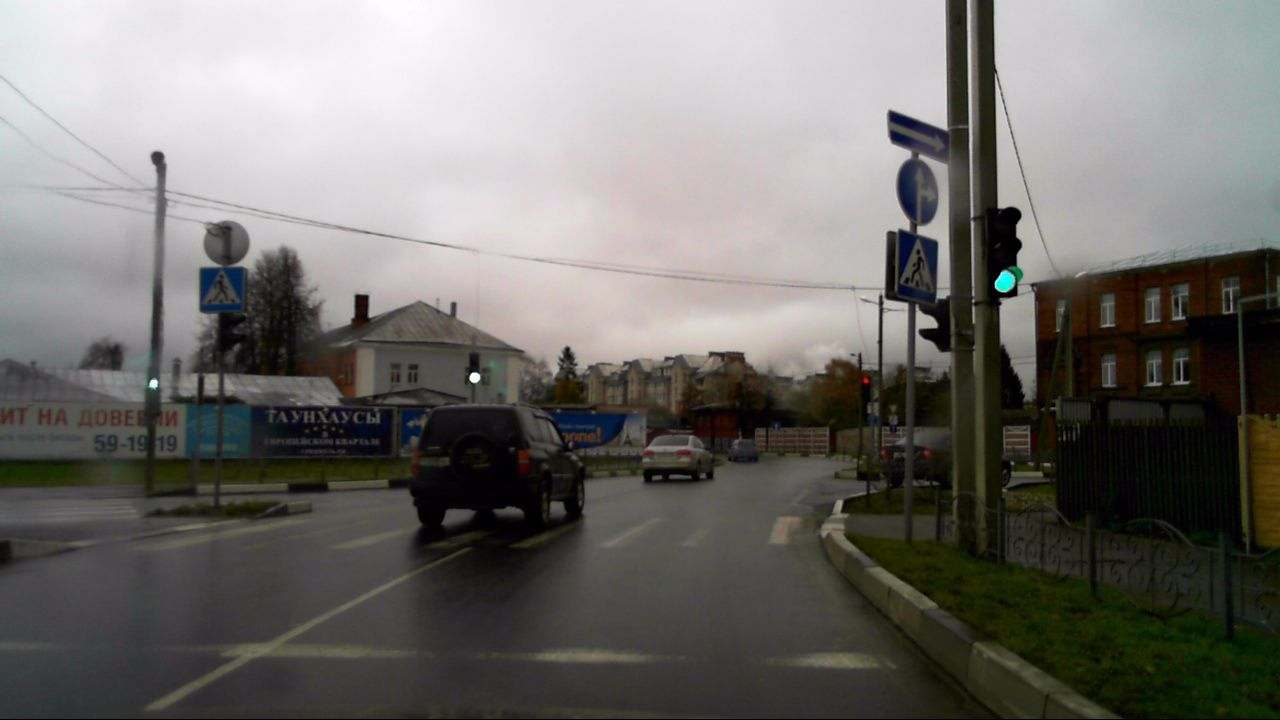One-Way Traffic: (888, 111, 948, 160)
Pedestrian Crossing: (899, 231, 938, 303)
